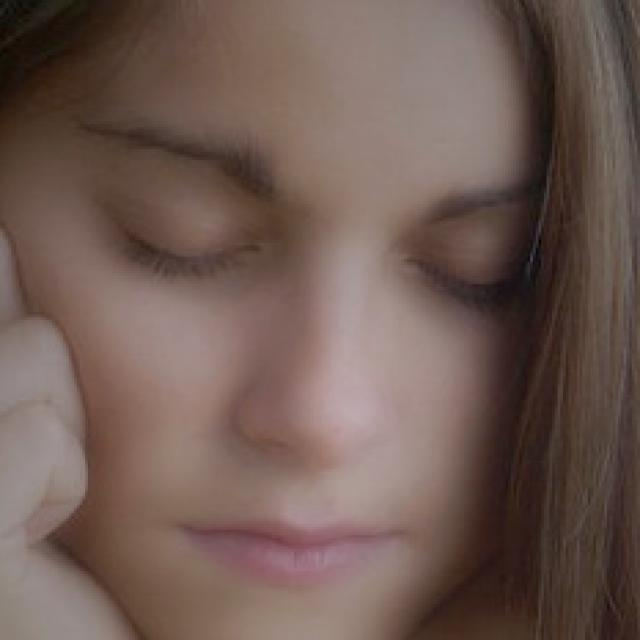sleepy: (53, 128, 573, 614)
